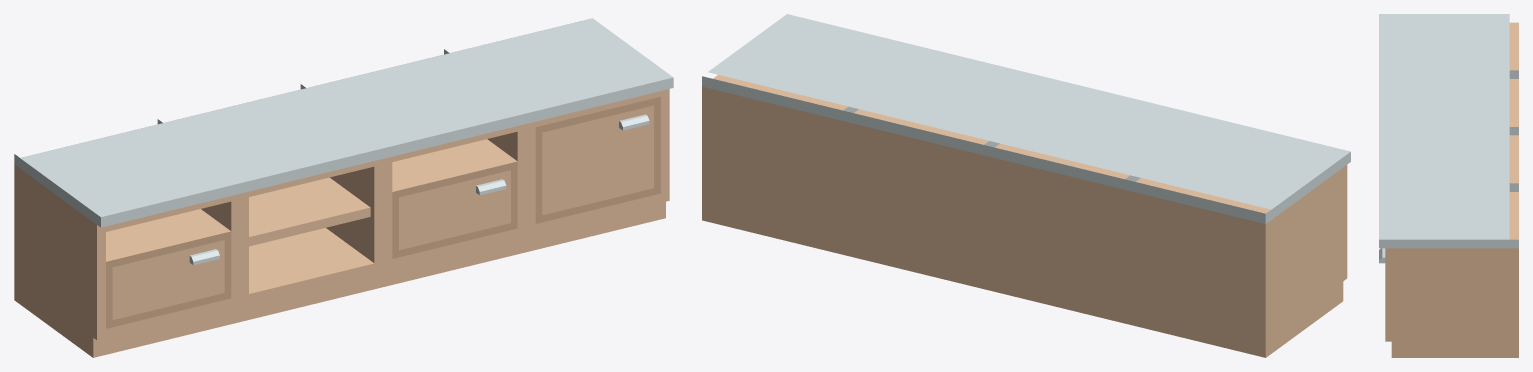
Rendered from Kitchen_Counter.glb.
3 views of the same model, side by side, from view 1: azimuth 30°, elevation 25°; view 2: azimuth 150°, elevation 25°; view 3: azimuth 270°, elevation 25° (orthographic). The views are drawn at different scales.
Parts seen in each view (by area): view 1: Kitchen_Counter; view 2: Kitchen_Counter; view 3: Kitchen_Counter.
Boxes of the visible parts, bbox=[...] form: Kitchen_Counter: bbox=[14, 18, 673, 357]; Kitchen_Counter: bbox=[702, 14, 1350, 357]; Kitchen_Counter: bbox=[1379, 14, 1518, 357].
Size of the model in its own units: 1.72 by 0.4205 by 0.45.
